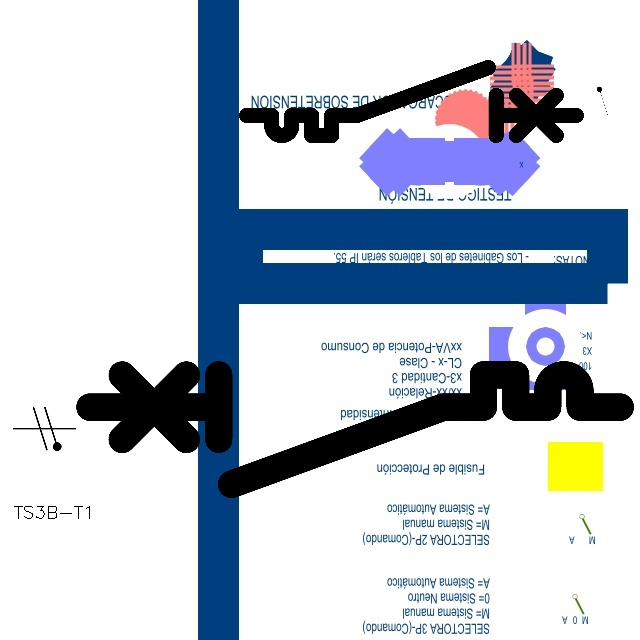interruptor_termomagnetico: (76, 361, 634, 497), (238, 59, 585, 144)
